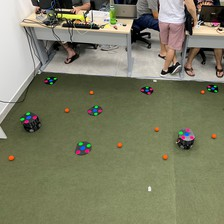ball: (7, 153, 16, 161), (115, 141, 123, 149), (153, 125, 160, 133), (161, 152, 168, 160), (88, 88, 95, 95), (63, 106, 70, 113), (210, 131, 216, 139), (199, 88, 205, 95)
robot: (17, 110, 42, 134), (175, 126, 196, 150)
